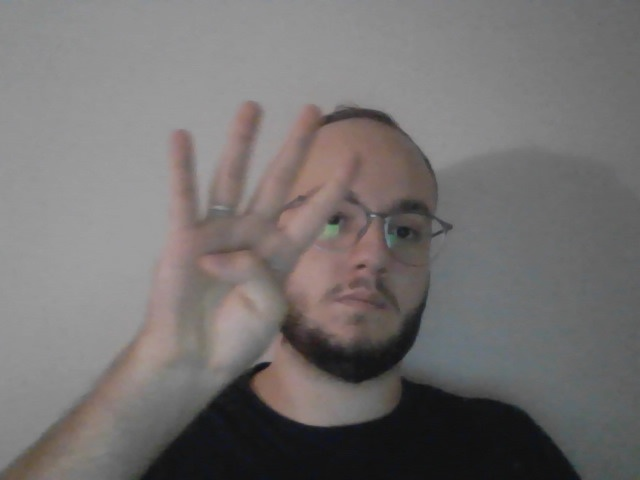Four: (146, 101, 364, 389)
